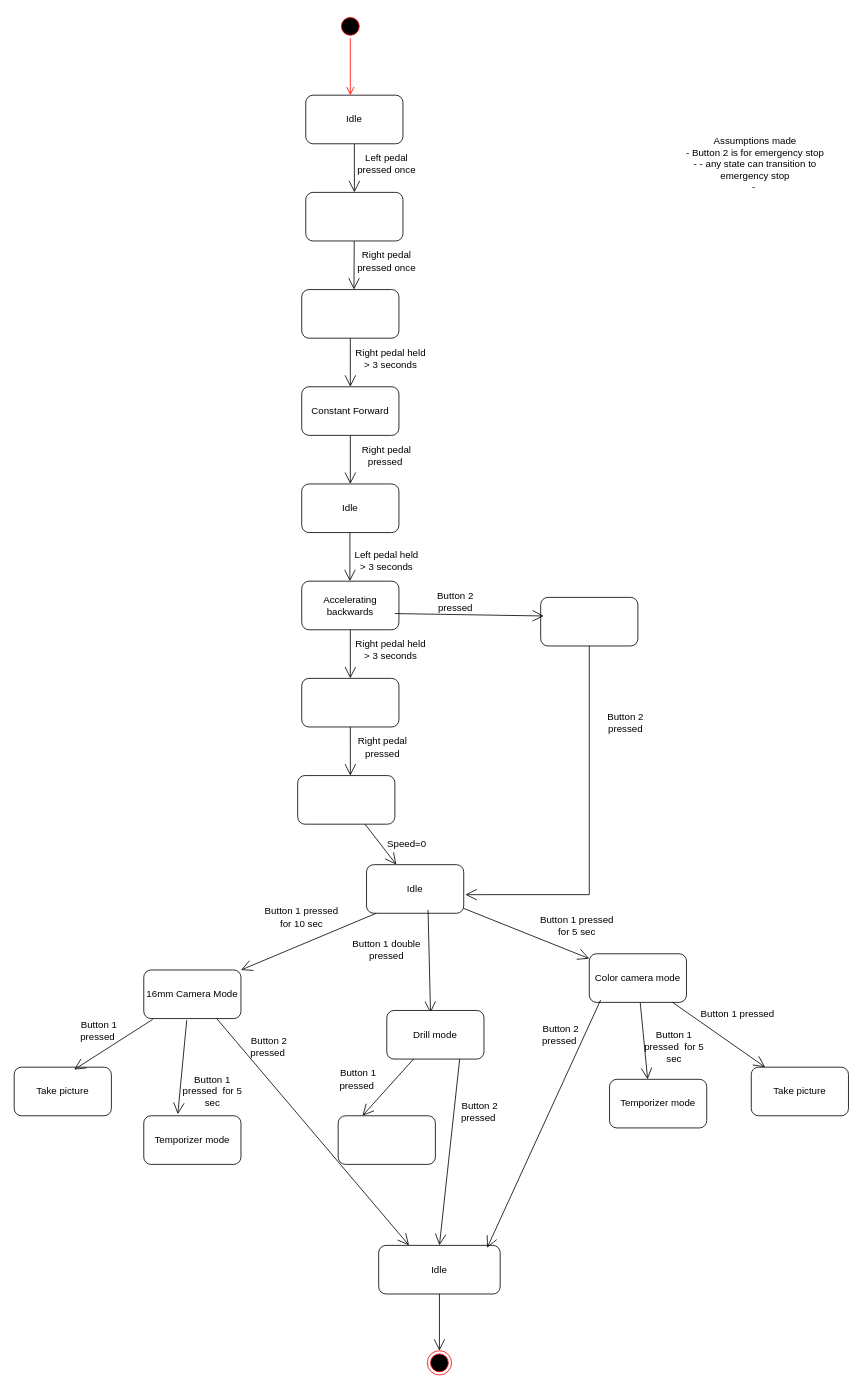
Some shapes in this 863 by 1389 pixel diagram are drawn without their labels. Each missing label, with the centre of its shape:
"Accelerating Forward" goes at [354,216].
"Constant Backward" goes at [350,702].
"Deaccelarating Backward" goes at [346,799].
"Deaccelerating Forward" goes at [350,313].
"Emergency Stop" goes at [589,621].
"Toggle on/off" goes at [386,1139].
